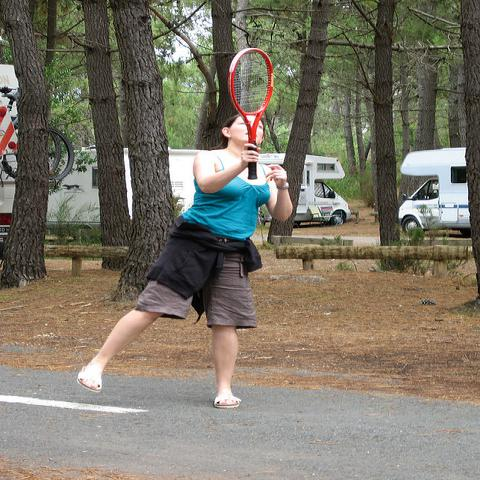truck: (46, 144, 352, 242), (399, 146, 473, 238)
